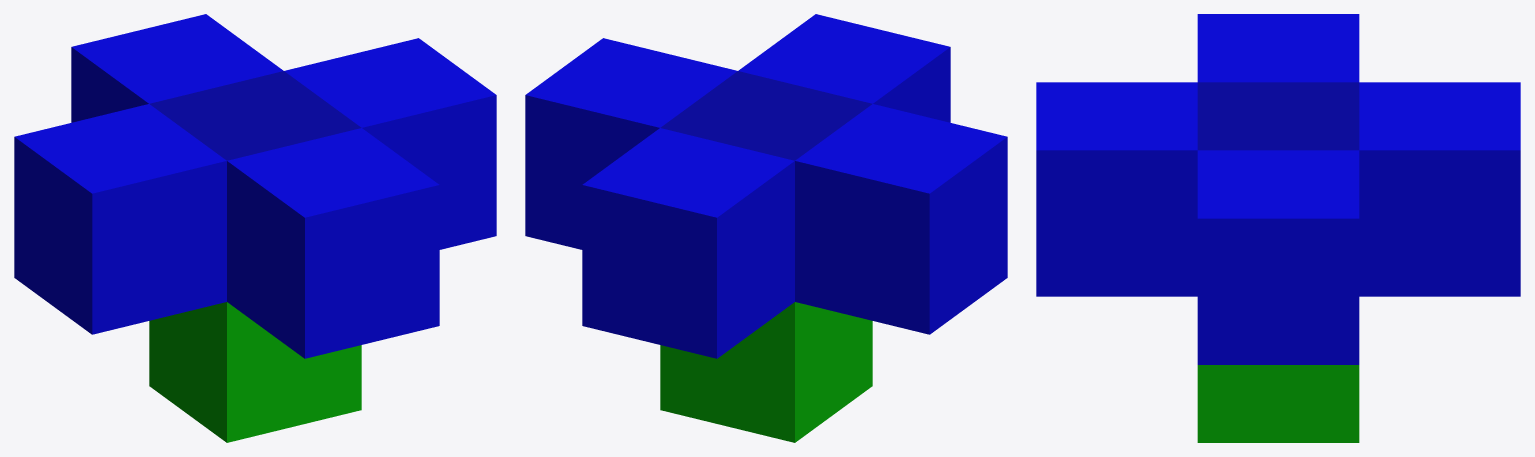
File: blueFlower.obj
3 views of the same model, side by side, from view 1: azimuth 30°, elevation 25°; view 2: azimuth 150°, elevation 25°; view 3: azimuth 270°, elevation 25° (orthographic). The views are drawn at different scales.
Bounding box in the file's own units: 3 × 2 × 3.
Materials: 1 (1 with a texture image).
